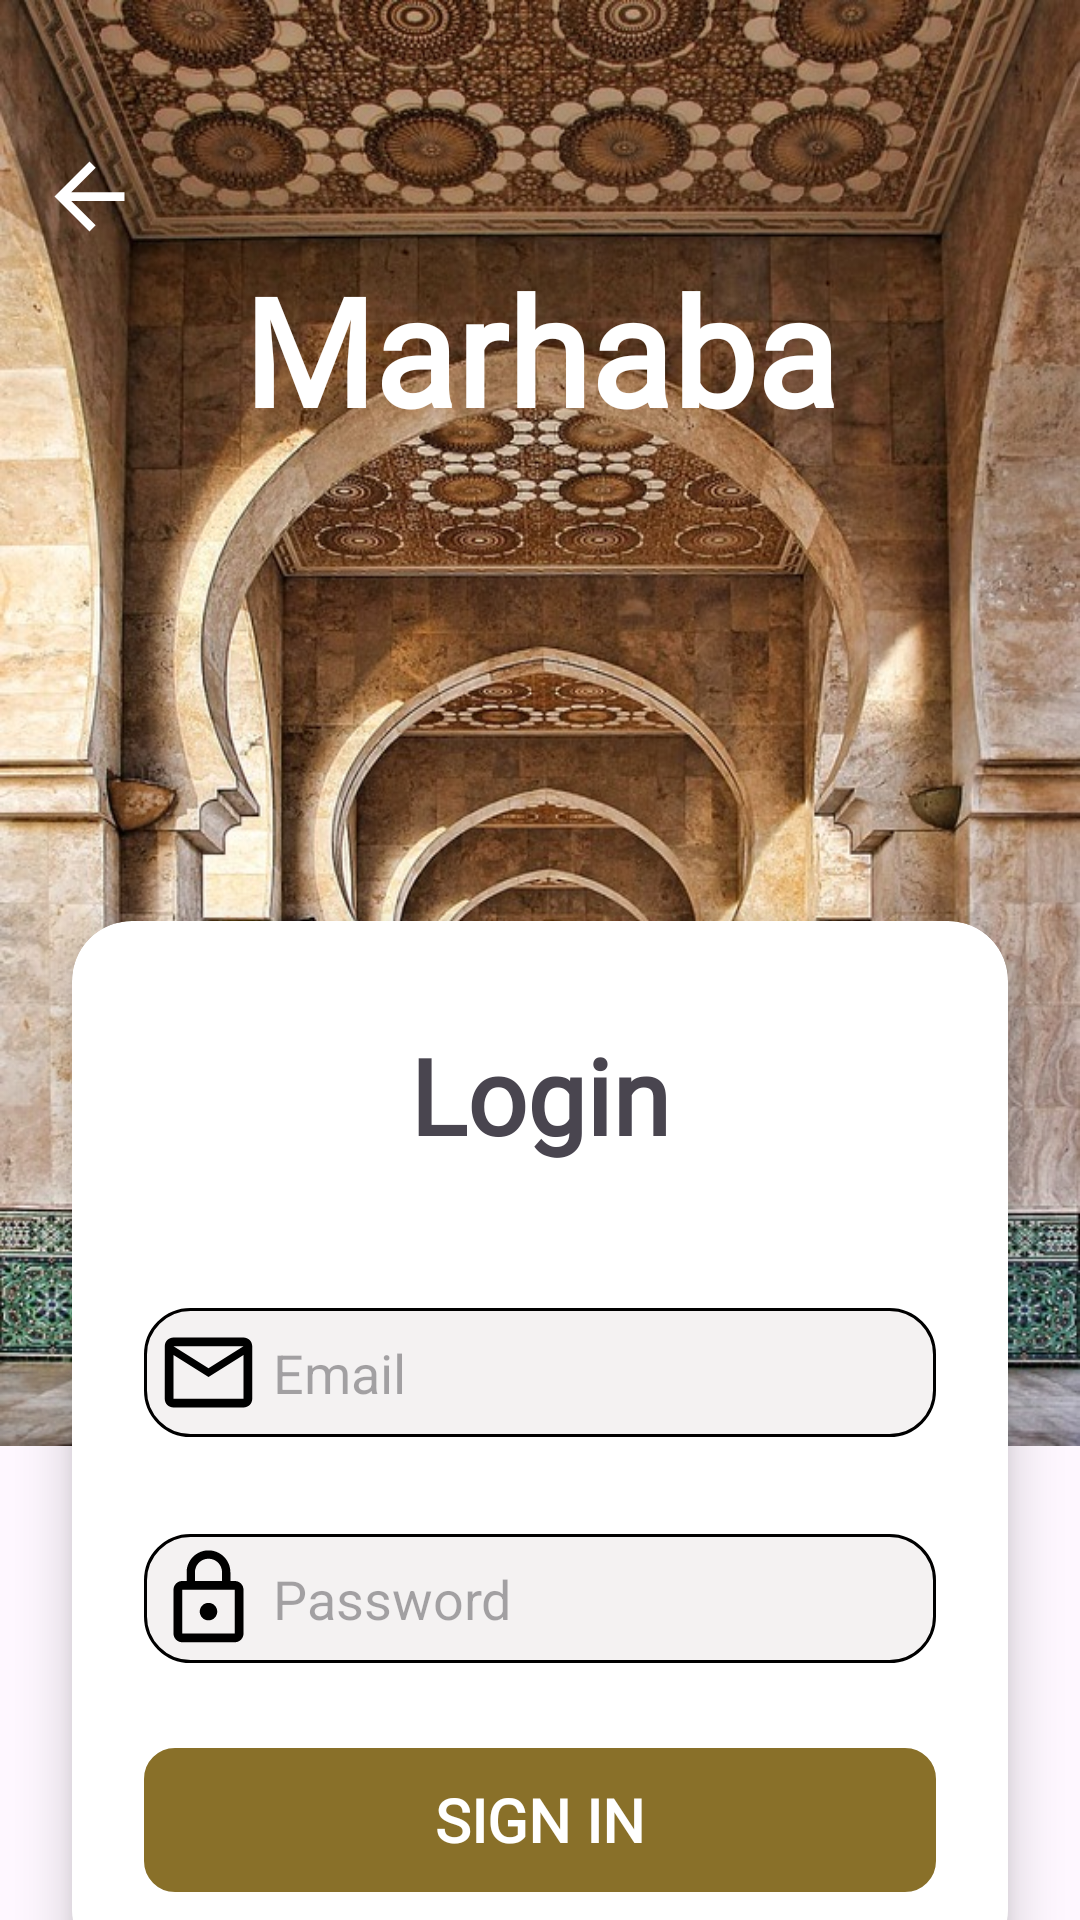

Icons on this 1080px×1920px Android screen, each with the point to tap as [x,y]:
back: [89,196]
